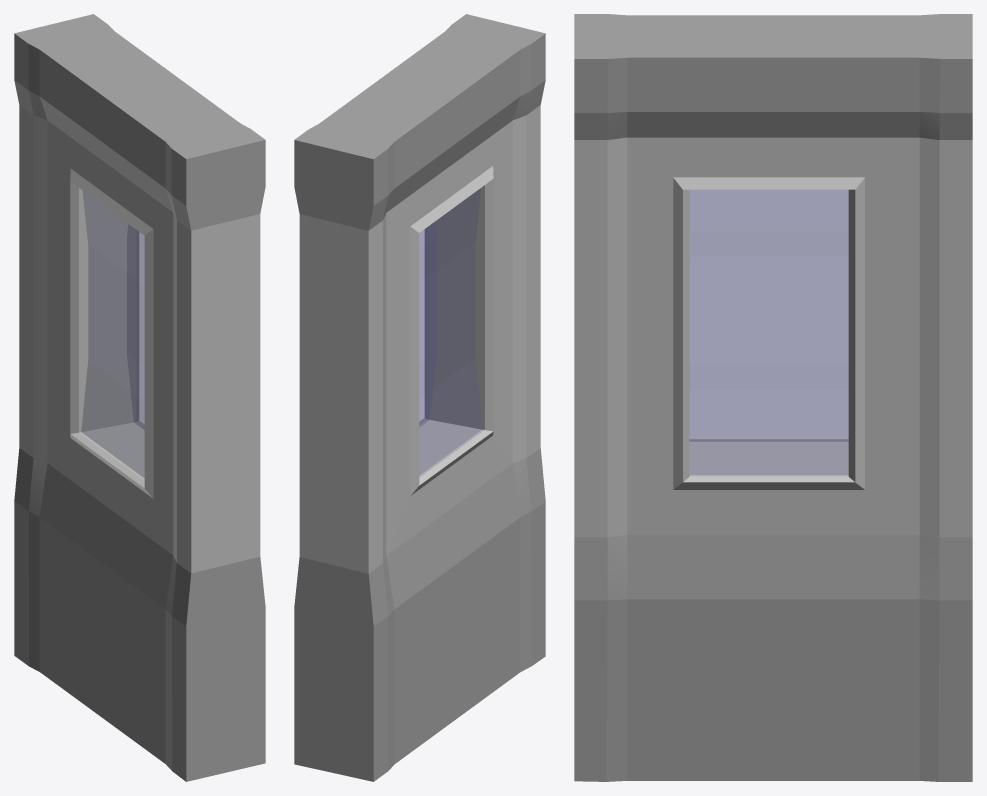
File: Hale_Wall_Window.fbx
3 views of the same model, side by side, from view 1: azimuth 30°, elevation 25°; view 2: azimuth 150°, elevation 25°; view 3: azimuth 270°, elevation 25° (orthographic). The views are drawn at different scales.
Parts seen in each view (by area): view 1: Wall_Window; view 2: Wall_Window; view 3: Wall_Window.
Boxes of the visible parts, x1,y1,x2,y2 form: Wall_Window: (14, 14, 265, 781); Wall_Window: (294, 14, 545, 781); Wall_Window: (574, 14, 972, 781).
Bounding box in the file's own units: 0.8 × 6.01 × 3.
